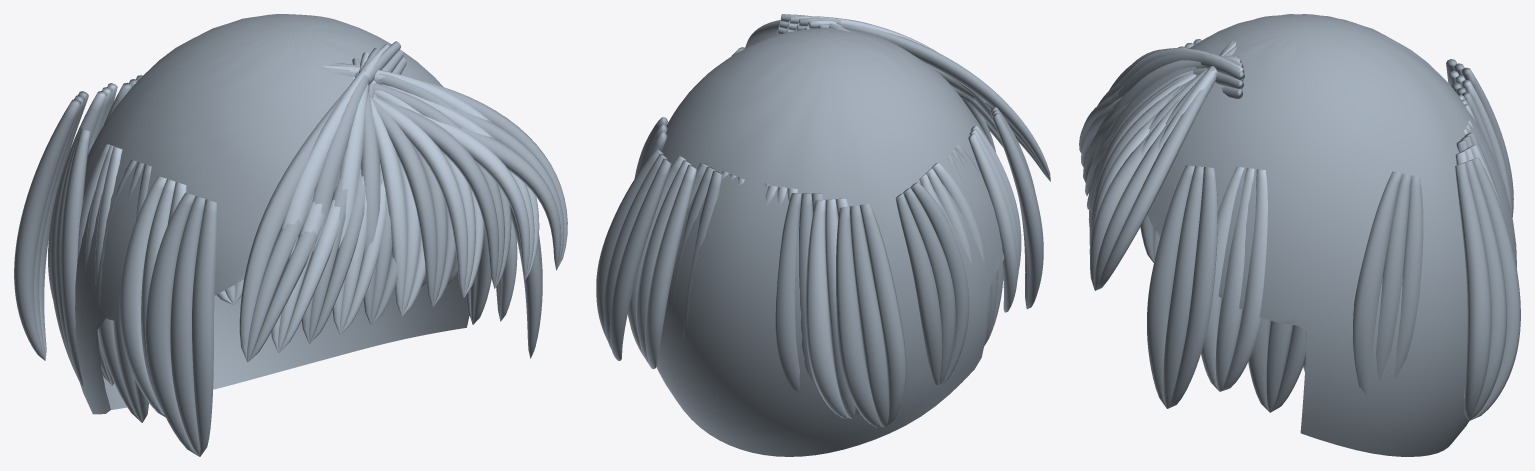
The picture shows the model from 3 angles, left to right: view 1: azimuth 30°, elevation 25°; view 2: azimuth 150°, elevation 25°; view 3: azimuth 270°, elevation 25°; orthographic projection. The views are drawn at different scales.
Visible parts, largest first — view 1: CrownHair_male_ref14, SideHair_-1_0_Strand2, BackHair_00_Strand0, SideHair_-1_0_Strand1, SideHair_-1_0_Strand0, FrontHair_Sweep_00_Strand2, SideHair_-1_1_Strand2, SideHair_-1_4_Strand0, FrontHair_Sweep_07_Strand2, FrontHair_Sweep_06_Strand2, FrontHair_Sweep_08_Strand2, FrontHair_Sweep_05_Strand2 (+42 smaller); view 2: CrownHair_male_ref14, BackHair_00_Strand2, BackHair_01_Strand2, BackHair_00_Strand1, BackHair_00_Strand0, BackHair_07_Strand0, BackHair_02_Strand2, BackHair_08_Strand0, SideHair_-1_4_Strand2, FrontHair_Sweep_00_Strand2, SideHair_-1_0_Strand2, SideHair_-1_4_Strand0 (+21 smaller); view 3: CrownHair_male_ref14, BackHair_08_Strand2, SideHair_1_0_Strand0, SideHair_1_4_Strand2, SideHair_1_0_Strand2, SideHair_1_0_Strand1, SideHair_1_1_Strand0, FrontHair_Sweep_10_Strand0, BackHair_08_Strand1, BackHair_08_Strand0, SideHair_1_1_Strand1, SideHair_1_4_Strand1 (+27 smaller).
Boxes of the visible parts, left/top/right/bottom form: CrownHair_male_ref14: left=75, top=14, right=469, bottom=414; SideHair_-1_0_Strand2: left=145, top=192, right=199, bottom=456; BackHair_00_Strand0: left=14, top=99, right=80, bottom=360; SideHair_-1_0_Strand1: left=170, top=196, right=205, bottom=456; SideHair_-1_0_Strand0: left=192, top=199, right=217, bottom=456; FrontHair_Sweep_00_Strand2: left=239, top=41, right=400, bottom=361; SideHair_-1_1_Strand2: left=119, top=176, right=166, bottom=417; SideHair_-1_4_Strand0: left=60, top=129, right=90, bottom=386; FrontHair_Sweep_07_Strand2: left=373, top=96, right=467, bottom=297; FrontHair_Sweep_06_Strand2: left=370, top=97, right=437, bottom=306; FrontHair_Sweep_08_Strand2: left=377, top=97, right=498, bottom=288; FrontHair_Sweep_05_Strand2: left=352, top=76, right=407, bottom=315; CrownHair_male_ref14: left=656, top=28, right=1004, bottom=456; BackHair_00_Strand2: left=836, top=206, right=884, bottom=427; BackHair_01_Strand2: left=805, top=200, right=851, bottom=418; BackHair_00_Strand1: left=849, top=205, right=889, bottom=426; BackHair_00_Strand0: left=859, top=203, right=906, bottom=426; BackHair_07_Strand0: left=645, top=164, right=696, bottom=368; BackHair_02_Strand2: left=775, top=193, right=801, bottom=392; BackHair_08_Strand0: left=609, top=158, right=671, bottom=360; SideHair_-1_4_Strand2: left=895, top=193, right=942, bottom=385; FrontHair_Sweep_00_Strand2: left=780, top=14, right=1050, bottom=181; SideHair_-1_0_Strand2: left=992, top=113, right=1043, bottom=309; SideHair_-1_4_Strand0: left=910, top=182, right=969, bottom=383; CrownHair_male_ref14: left=1147, top=14, right=1516, bottom=456; BackHair_08_Strand2: left=1455, top=163, right=1491, bottom=420; SideHair_1_0_Strand0: left=1167, top=167, right=1217, bottom=408; SideHair_1_4_Strand2: left=1353, top=171, right=1402, bottom=395; SideHair_1_0_Strand2: left=1147, top=165, right=1194, bottom=408; SideHair_1_0_Strand1: left=1163, top=166, right=1203, bottom=408; SideHair_1_1_Strand0: left=1220, top=169, right=1267, bottom=391; FrontHair_Sweep_10_Strand0: left=1095, top=37, right=1234, bottom=290; BackHair_08_Strand1: left=1462, top=160, right=1506, bottom=420; BackHair_08_Strand0: left=1469, top=157, right=1520, bottom=420; SideHair_1_1_Strand1: left=1215, top=168, right=1254, bottom=391; SideHair_1_4_Strand1: left=1376, top=173, right=1410, bottom=380.
Size of the model in its own units: 0.725 by 0.7341 by 0.7408.
